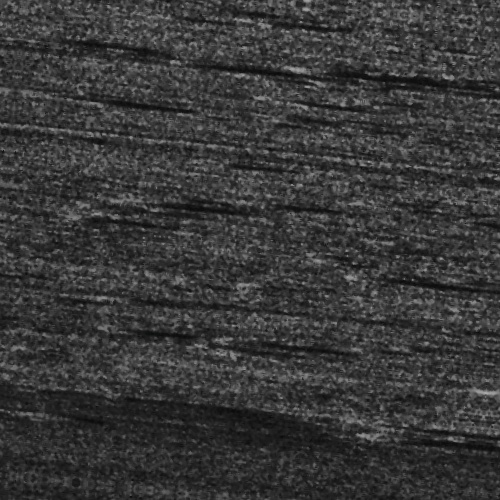object: (98, 208, 171, 217), (337, 405, 410, 412), (271, 58, 324, 67), (244, 334, 285, 343), (0, 55, 73, 60), (196, 15, 269, 20), (233, 93, 286, 98), (222, 197, 275, 202), (125, 66, 166, 71), (49, 230, 90, 235), (358, 259, 399, 264), (120, 336, 161, 341), (28, 111, 69, 116), (466, 361, 500, 366), (342, 419, 383, 422), (494, 61, 500, 66)
shadow: (298, 58, 464, 67), (265, 334, 396, 343), (135, 208, 232, 217), (374, 405, 488, 412), (146, 66, 271, 71), (379, 259, 500, 264), (32, 55, 148, 60), (49, 111, 165, 116), (249, 197, 355, 202), (141, 336, 238, 341), (70, 230, 163, 235), (260, 93, 341, 98), (233, 15, 313, 20), (363, 419, 476, 422)
